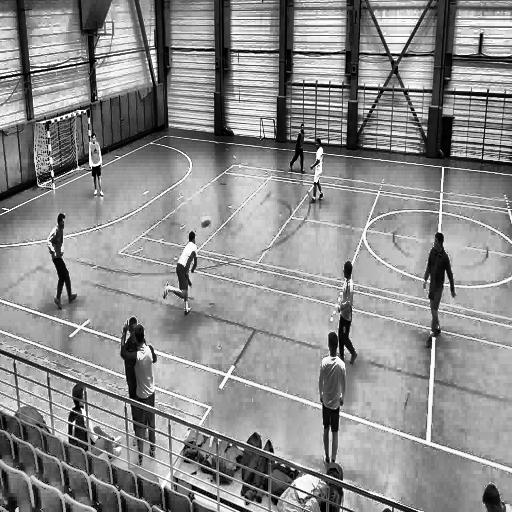ball: (202, 216, 212, 228)
player: (318, 332, 347, 476), (422, 234, 456, 351), (162, 232, 200, 318), (47, 214, 79, 312), (336, 260, 359, 368), (88, 131, 106, 200), (310, 136, 326, 206), (290, 123, 306, 177)
